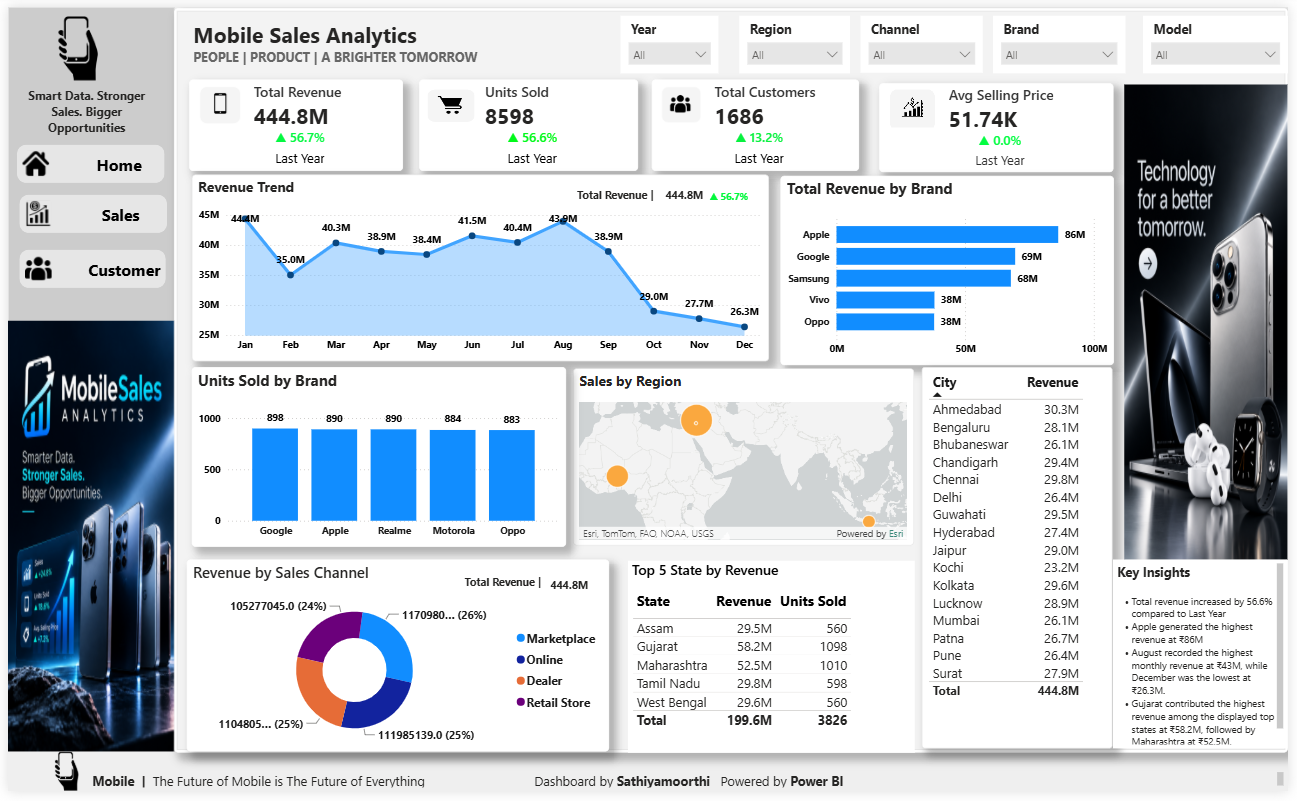

The dashboard page shown, as its layout file describes it:
{"tool":"powerbi","page":{"name":"Home","canvas":[1600,980],"ordinal":0},"visuals":[{"type":"shape","box":[0,0,208.3,930],"z":0},{"type":"shape","box":[208.3,1.7,1391.7,930],"z":1000},{"type":"textbox","box":[226,11.1,501.4,70],"z":2000},{"type":"cardVisual","title":"Total Revenue","fields":{"Data":["Measure.Total Revenue"]},"box":[226,90.7,267.4,114.6],"z":3000},{"type":"cardVisual","title":"Total Revenue","fields":{"Data":["Measure.Units Sold"]},"box":[514.2,90.7,273.8,114.6],"z":4000},{"type":"cardVisual","title":"Total Revenue","fields":{"Data":["Measure.Total Customers"]},"box":[805.5,90.7,259.5,114.6],"z":5000},{"type":"cardVisual","title":"Total Revenue","fields":{"Data":["Measure.Average Selling Price"]},"box":[1088.8,95.5,292.9,111.4],"z":6000},{"type":"areaChart","title":"Revenue Trend","fields":{"Category":["DimDate.Month"],"Y":["Measure.Total Revenue"]},"box":[230,210,721.7,233.3],"z":7000},{"type":"cardVisual","fields":{"Data":["Measure.Total Revenue"]},"box":[802.6,210.9,148.8,45],"z":8000},{"type":"textbox","box":[706.7,220,121.4,28.6],"z":9000},{"type":"clusteredBarChart","fields":{"Y":["Measure.Total Revenue"],"Category":["DimProduct.Brand"]},"box":[965,211.7,416.7,236.7],"z":10000},{"type":"esriVisual","title":"Sales by Region","fields":{"Location":["DimLocation.Region"],"Size":["Measure.Total Revenue"]},"box":[706.7,451.7,426.7,221.7],"z":11000},{"type":"tableEx","fields":{"Values":["DimLocation.City","Measure.Total Revenue"]},"box":[1141.7,450,238.3,476.7],"z":12000},{"type":"clusteredColumnChart","title":"Units Sold by Brand","fields":{"Y":["Measure.Total Units Sold"],"Category":["DimProduct.Brand"]},"box":[230,450,468.3,225],"z":13000},{"type":"donutChart","title":"Revenue by Sales Channel","fields":{"Y":["Measure.Total Revenue"],"Category":["FactSales.Sales_Channel"]},"box":[223.3,690,528.3,240],"z":14000},{"type":"textbox","box":[565,705,116.7,33.3],"z":15000},{"type":"cardVisual","fields":{"Data":["Measure.Total Revenue"]},"box":[661.7,690,90,61.7],"z":16000},{"type":"tableEx","title":"Top 5 State by Revenue","fields":{"Values":["DimLocation.State","Measure.Total Revenue","Measure.Total Units Sold"]},"box":[775,691.7,358.3,240],"z":17000},{"type":"textbox","box":[1381.8,690.9,218.2,236.4],"z":18000},{"type":"image","box":[1396,97.1,203.8,593.8],"z":19000},{"type":"slicer","fields":{"Values":["DimDate.Year"]},"box":[765.7,11.1,122.6,71.6],"z":20000},{"type":"slicer","fields":{"Values":["DimLocation.Region"]},"box":[913.7,11.1,138.5,71.6],"z":21000},{"type":"slicer","fields":{"Values":["DimProduct.Brand"]},"box":[1230.5,11.1,165.6,71.6],"z":22000},{"type":"slicer","fields":{"Values":["DimProduct.Model"]},"box":[1418.3,11.1,181.5,71.6],"z":23000},{"type":"image","box":[0,391.7,208.3,538.3],"z":24000},{"type":"image","box":[35,10,106.7,85],"z":25000},{"type":"slicer","fields":{"Values":["FactSales.Sales_Channel"]},"box":[1064.9,11.1,153,71.2],"z":26000},{"type":"actionButton","box":[11.7,171.7,185,48.3],"z":27000},{"type":"actionButton","box":[13.3,235,185,48.3],"z":28000},{"type":"actionButton","box":[13.3,303.3,183.3,48.3],"z":29000},{"type":"image","box":[45,930,55.7,50.9],"z":30000},{"type":"textbox","box":[100,951.7,1499.5,28.7],"z":31000},{"type":"textbox","box":[0,95,196.7,76.7],"z":32000}]}

Visuals, with their boxes in screenshot pixels (x1, y1, x2, y2), scaled from the page's 1600x980 canvas onto the 1297x801 screenshot:
shape: locate(0, 0, 169, 760)
shape: locate(169, 1, 1296, 762)
textbox: locate(183, 9, 590, 66)
"Total Revenue" cardVisual: locate(183, 74, 400, 168)
"Total Revenue" cardVisual: locate(417, 74, 639, 168)
"Total Revenue" cardVisual: locate(653, 74, 863, 168)
"Total Revenue" cardVisual: locate(883, 78, 1120, 169)
"Revenue Trend" areaChart: locate(186, 172, 771, 362)
cardVisual - Measure.Total Revenue: locate(651, 172, 771, 209)
textbox: locate(573, 180, 671, 203)
clusteredBarChart - Measure.Total Revenue x DimProduct.Brand: locate(782, 173, 1120, 366)
"Sales by Region" esriVisual: locate(573, 369, 919, 550)
tableEx - DimLocation.City x Measure.Total Revenue: locate(925, 368, 1119, 757)
"Units Sold by Brand" clusteredColumnChart: locate(186, 368, 566, 552)
"Revenue by Sales Channel" donutChart: locate(181, 564, 609, 760)
textbox: locate(458, 576, 553, 603)
cardVisual - Measure.Total Revenue: locate(536, 564, 609, 614)
"Top 5 State by Revenue" tableEx: locate(628, 565, 919, 762)
textbox: locate(1120, 565, 1296, 758)
image: locate(1132, 79, 1296, 565)
slicer - DimDate.Year: locate(621, 9, 720, 68)
slicer - DimLocation.Region: locate(741, 9, 853, 68)
slicer - DimProduct.Brand: locate(997, 9, 1132, 68)
slicer - DimProduct.Model: locate(1150, 9, 1296, 68)
image: locate(0, 320, 169, 760)
image: locate(28, 8, 115, 78)
slicer - FactSales.Sales_Channel: locate(863, 9, 987, 67)
actionButton: locate(9, 140, 159, 180)
actionButton: locate(11, 192, 161, 232)
actionButton: locate(11, 248, 159, 287)
image: locate(36, 760, 82, 800)
textbox: locate(81, 778, 1296, 800)
textbox: locate(0, 78, 159, 140)
